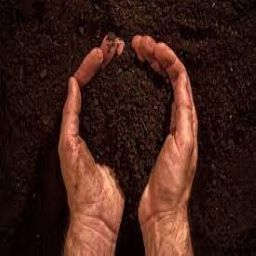dirt: (76, 46, 175, 202), (1, 1, 56, 255), (199, 41, 252, 254), (59, 0, 248, 35)
